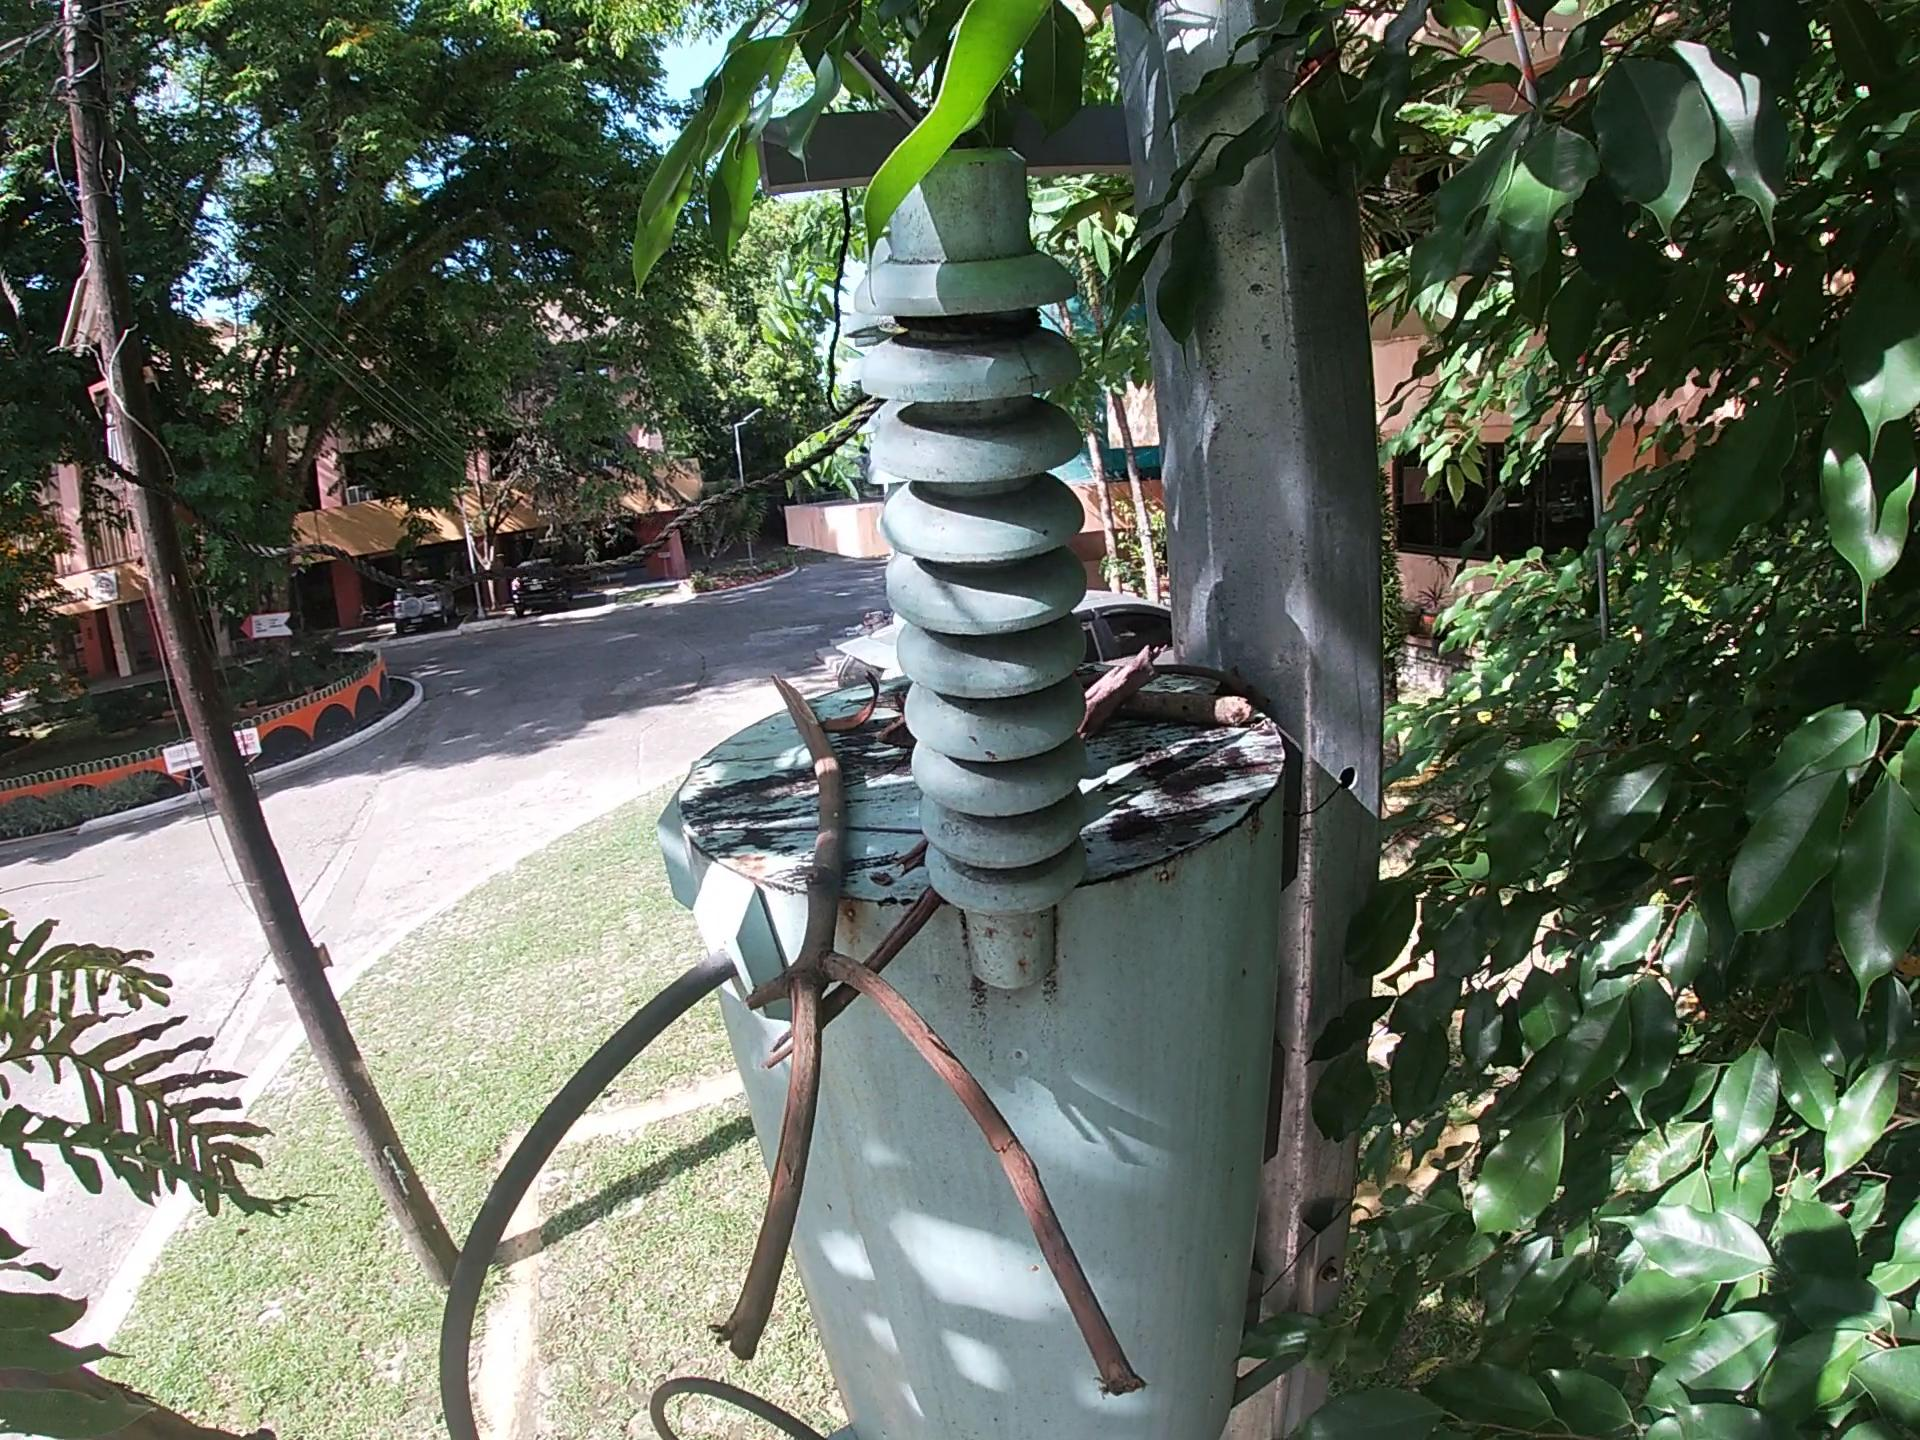mahogany fruit: (816, 670, 884, 741), (877, 715, 918, 753)
tree branch: (700, 664, 1160, 1408), (754, 882, 954, 1082), (1070, 647, 1163, 743), (1147, 649, 1277, 712), (1110, 684, 1259, 731)
